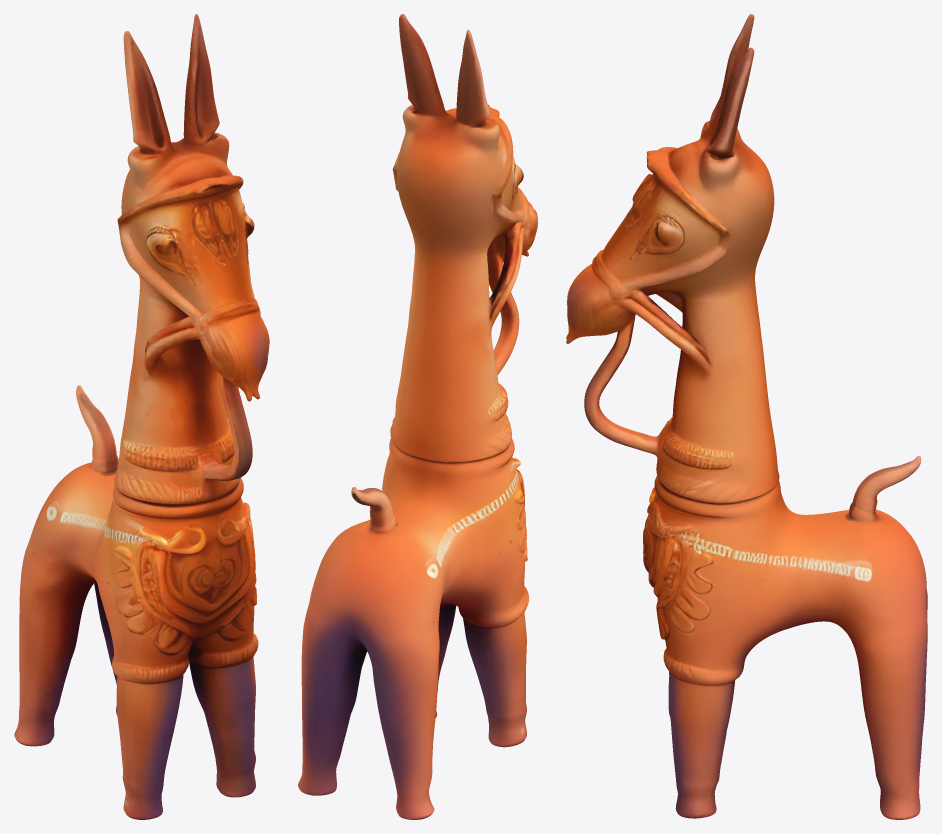
Rendered from base_basic_shaded.compressed.glb.
3 renders of one model, left to right at view 1: azimuth 30°, elevation 25°; view 2: azimuth 150°, elevation 25°; view 3: azimuth 270°, elevation 25°, orthographic. The views are drawn at different scales.
Parts seen in each view (by area): view 1: model; view 2: model; view 3: model.
Part boxes in pixels (x1,y1,x2,y2): model: (14,14,269,819); model: (298,14,537,819); model: (566,14,927,819).
Size of the model in its own units: 0.3452 by 1.81 by 0.784.
Materials: 1 (1 with a texture image).
